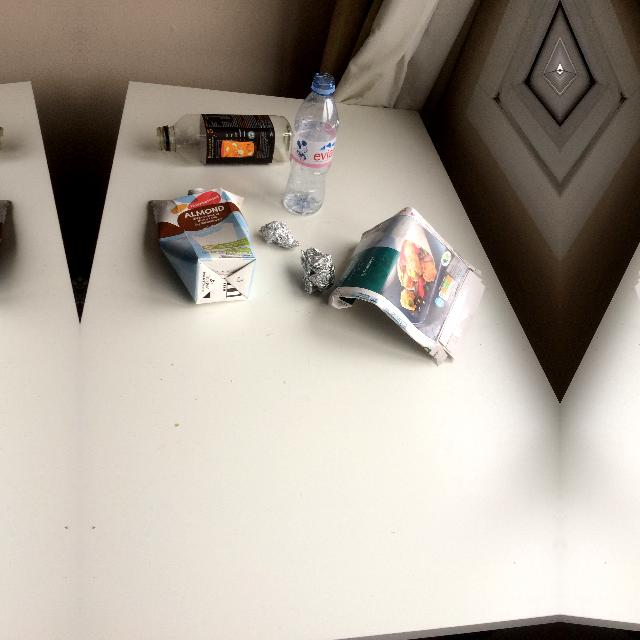Cardboard: (143, 182, 260, 312)
Metal: (298, 244, 336, 302), (256, 219, 300, 251)
Paper: (318, 198, 492, 368)
Plastic: (277, 68, 341, 216), (152, 110, 300, 168)
